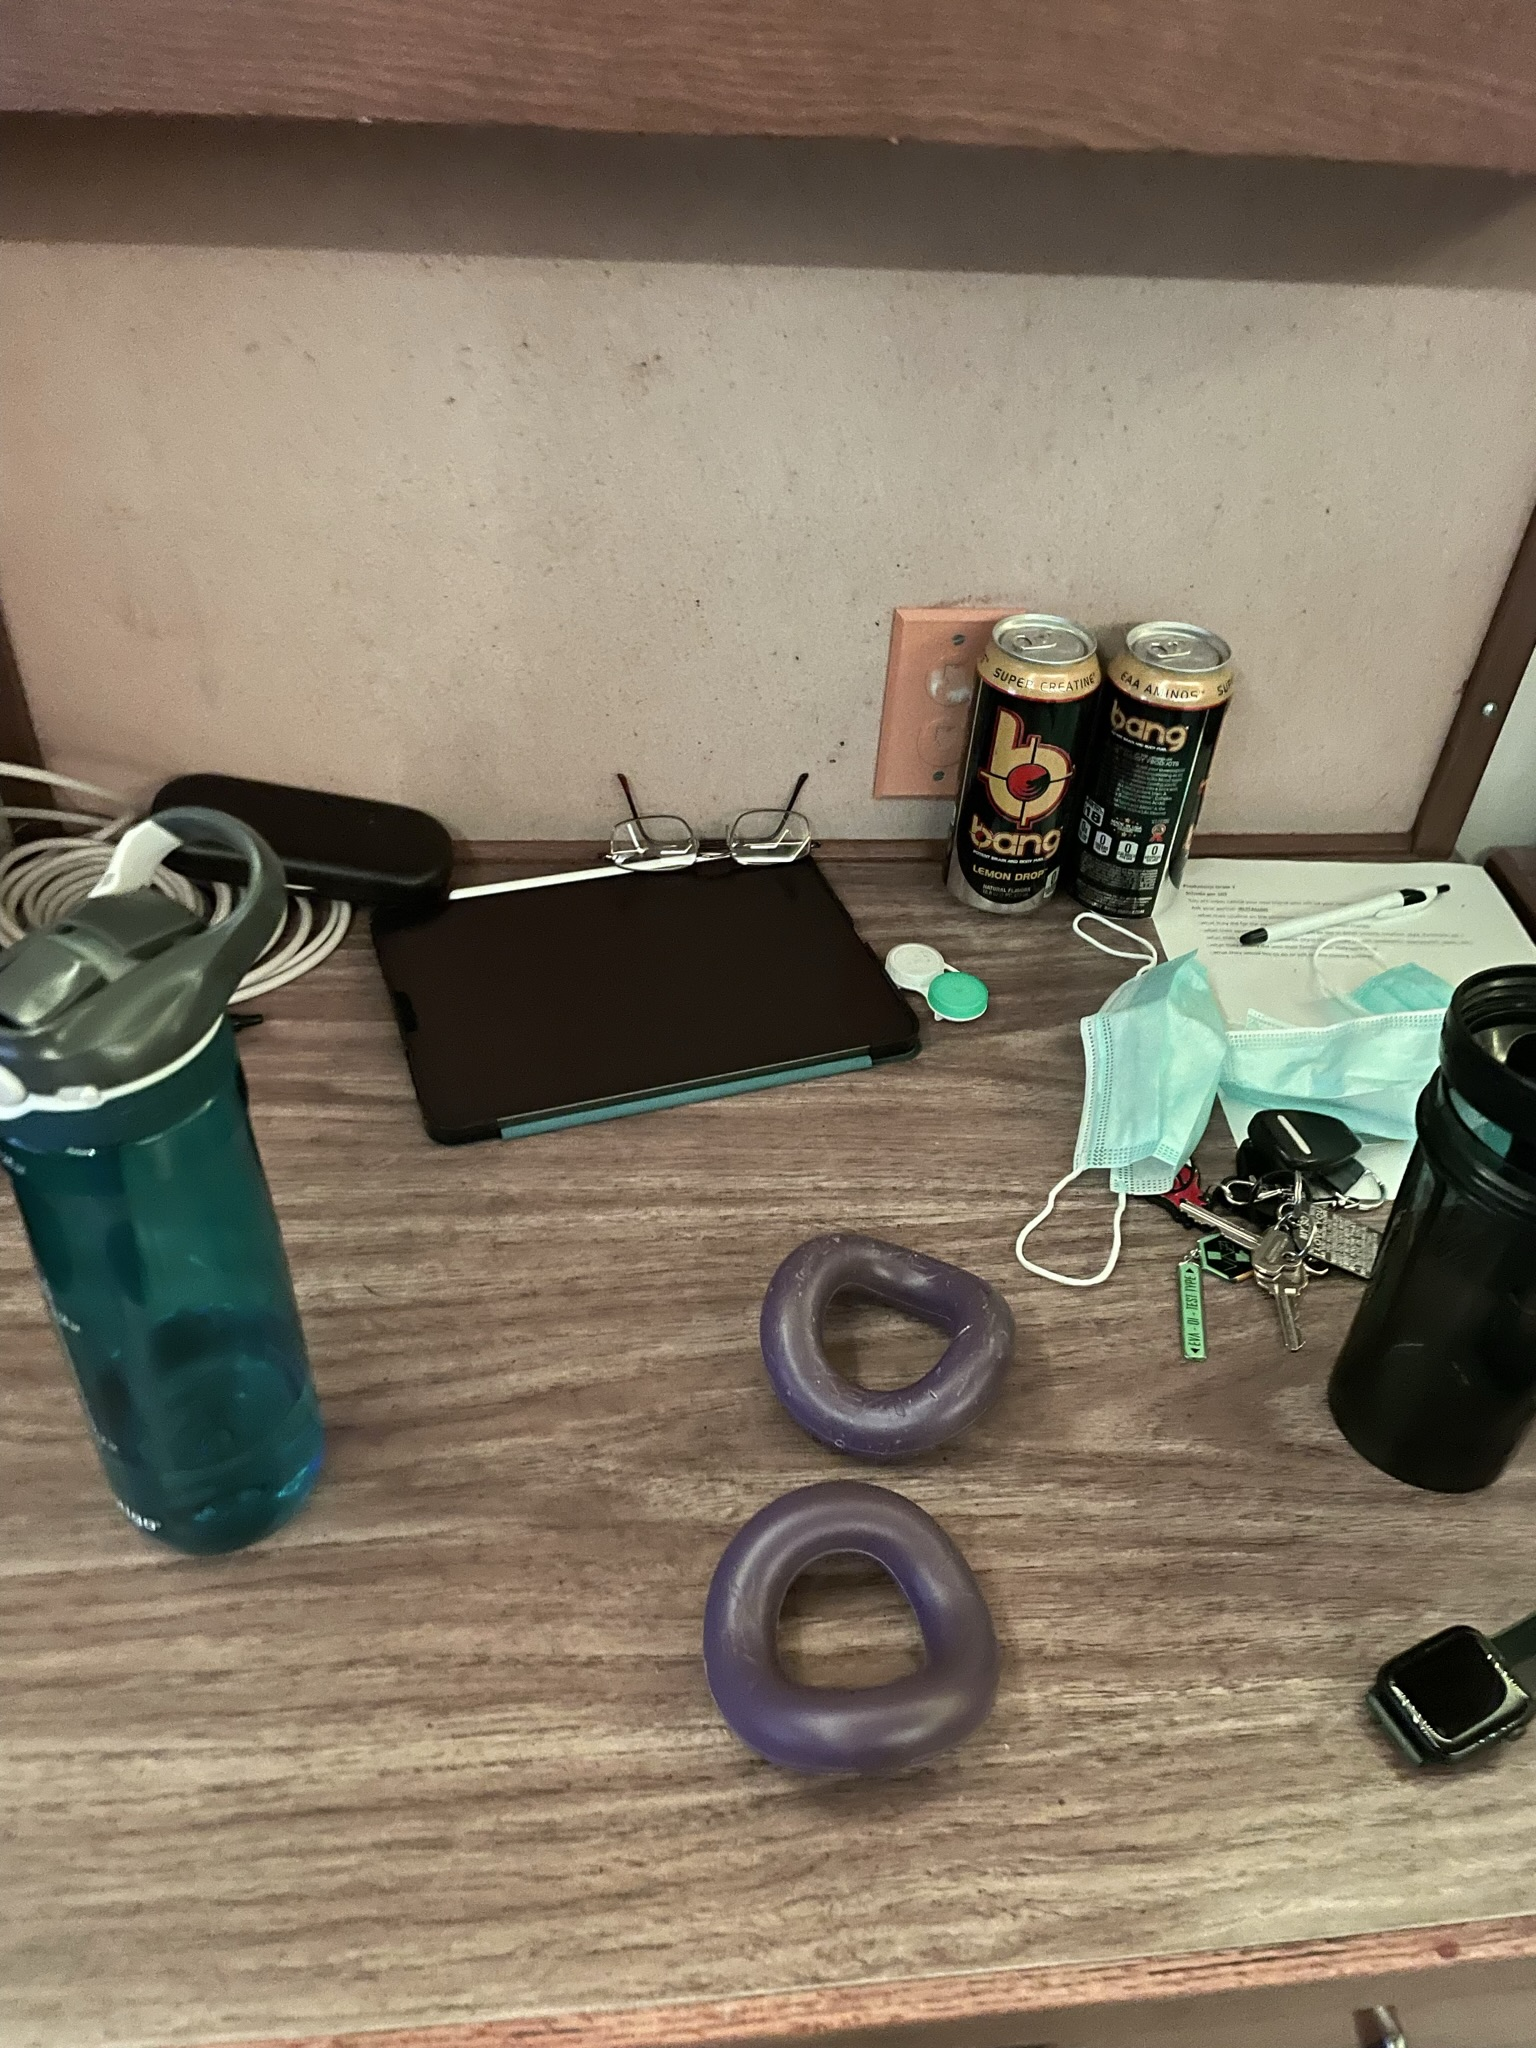ring: (699, 1480, 1004, 1784), (758, 1229, 1013, 1479)
